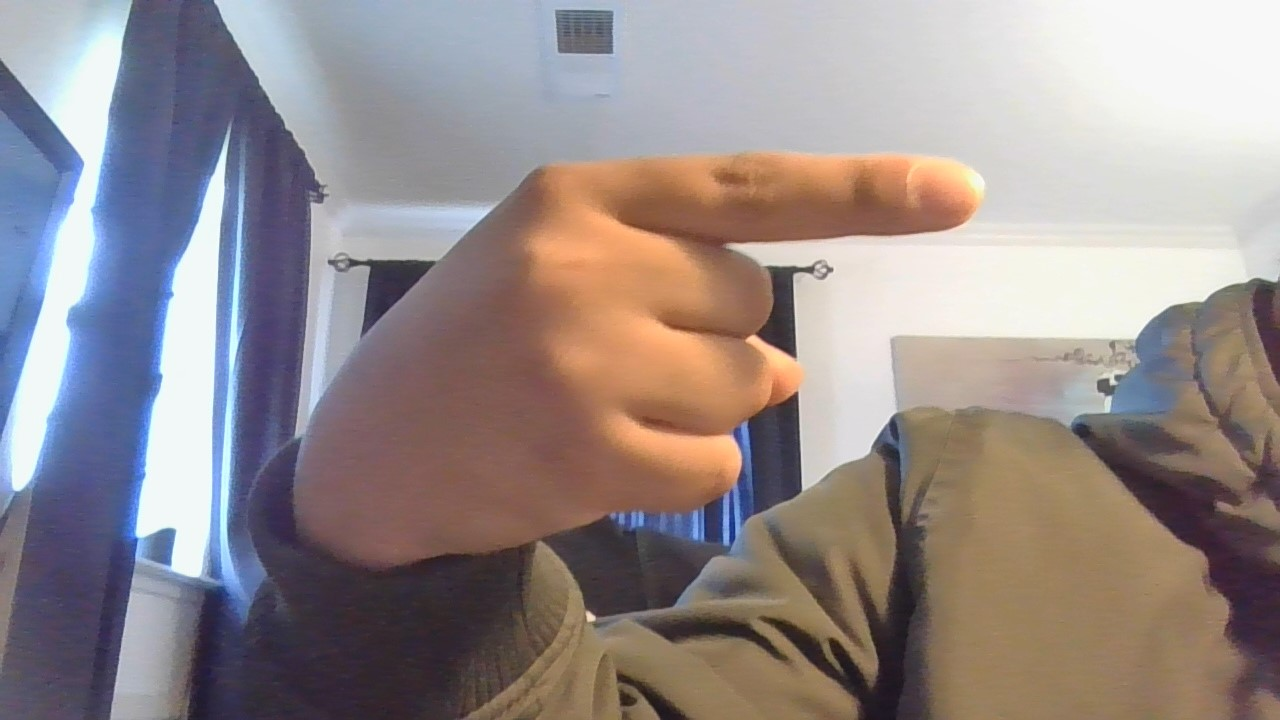g: (262, 125, 1010, 580)
